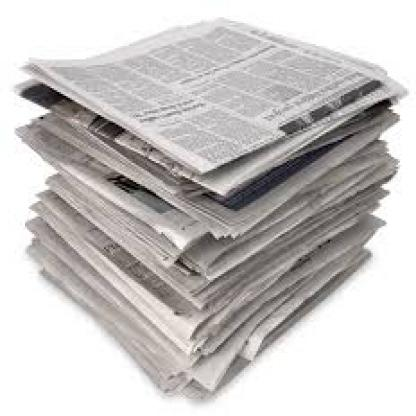paper: (13, 15, 405, 388), (25, 237, 371, 398), (14, 84, 400, 224), (27, 174, 385, 280)
